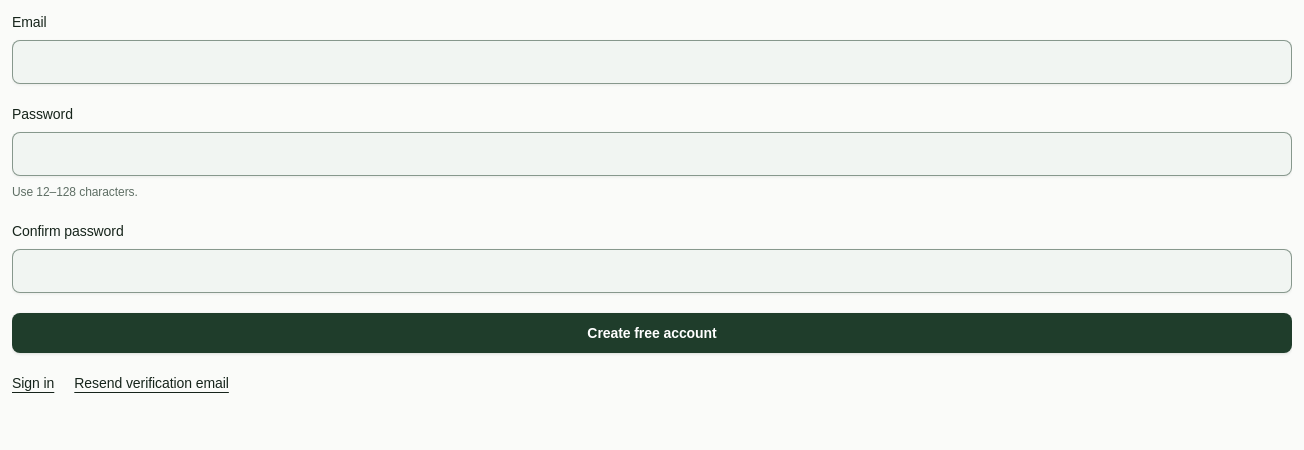
Test case: hosted signup corrections › keeps the entered email and passwords after a validation error
This screenshot has width=1304, height=450.
Type "applicant@example.test" into the field labelled "Email" at [652, 62], box [12, 40, 1292, 84]
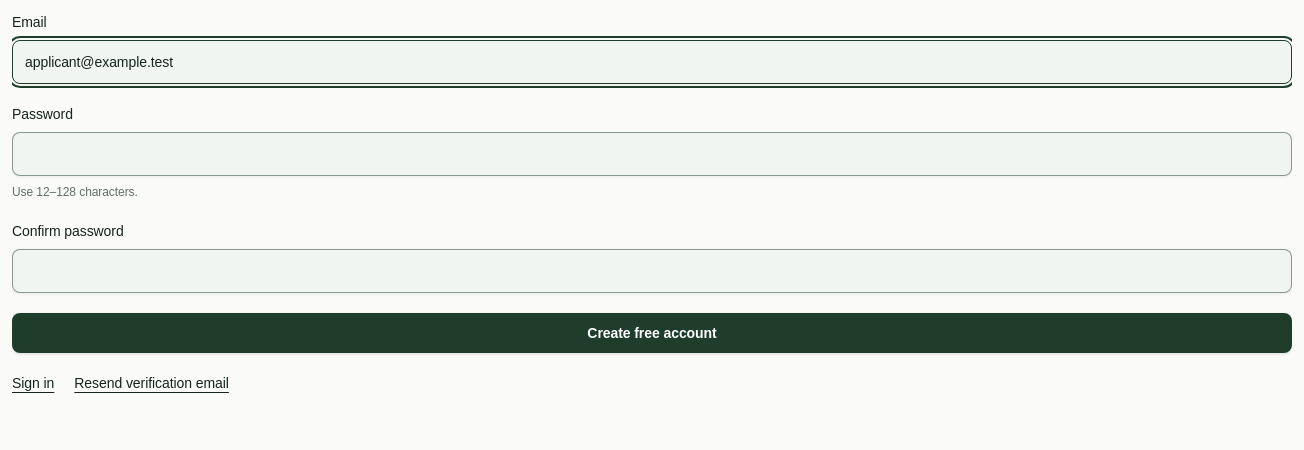
Type "A-password-long-enough" into the password field labelled "Password" at [652, 154], box [12, 132, 1292, 176]
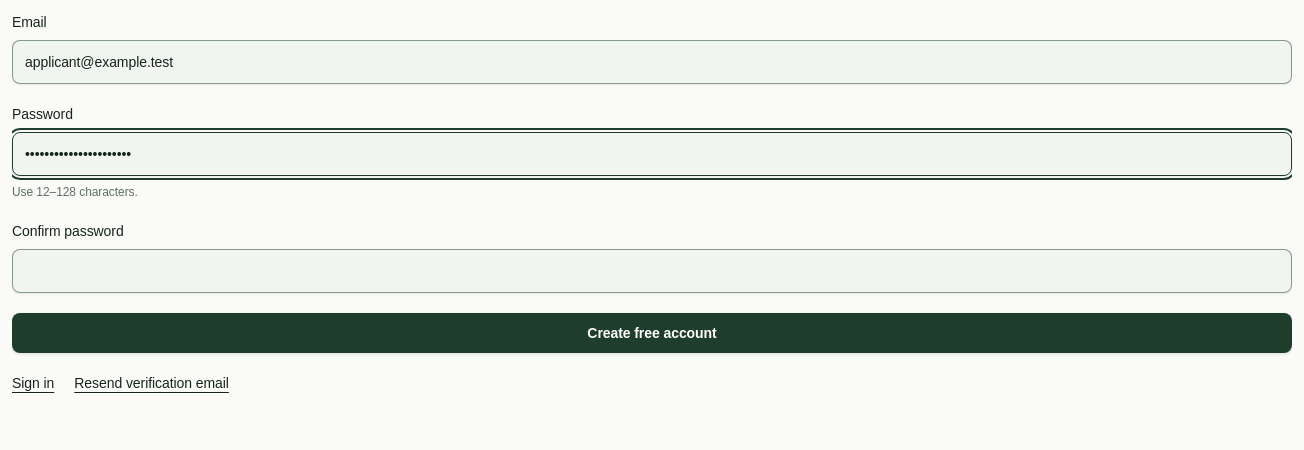
Type "A-different-password" into the password field labelled "Confirm password" at [652, 271], box [12, 249, 1292, 293]
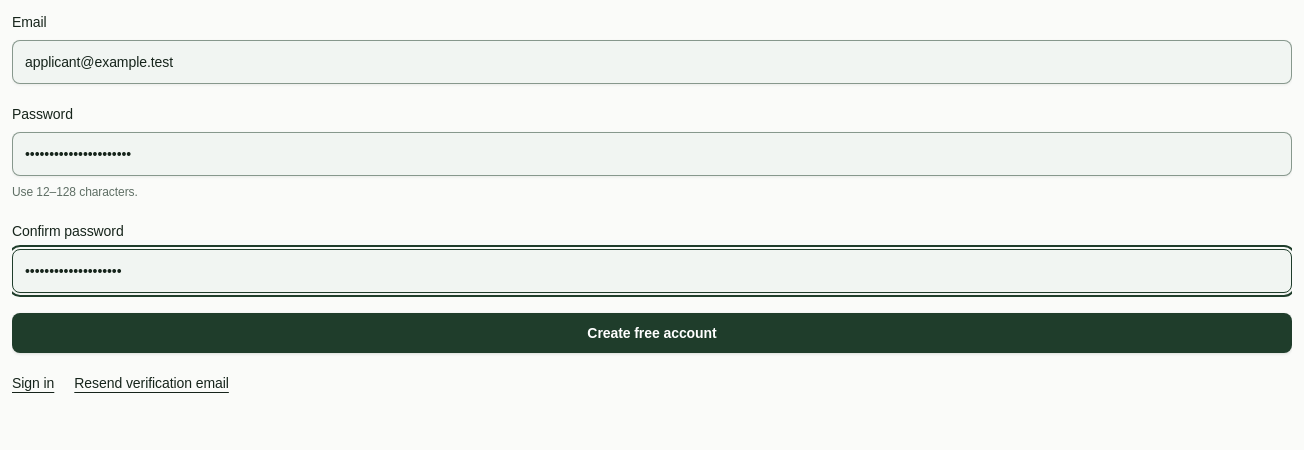
Click the button "Create free account" at [652, 333], box [12, 313, 1292, 353]
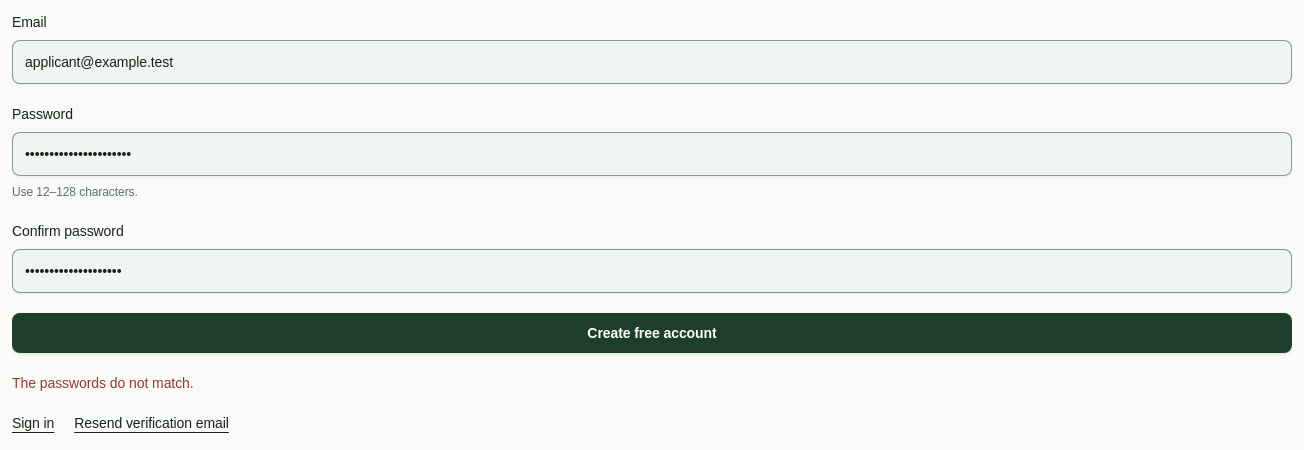
Check: the message reads "The passwords do not match.", box [12, 375, 194, 391]
